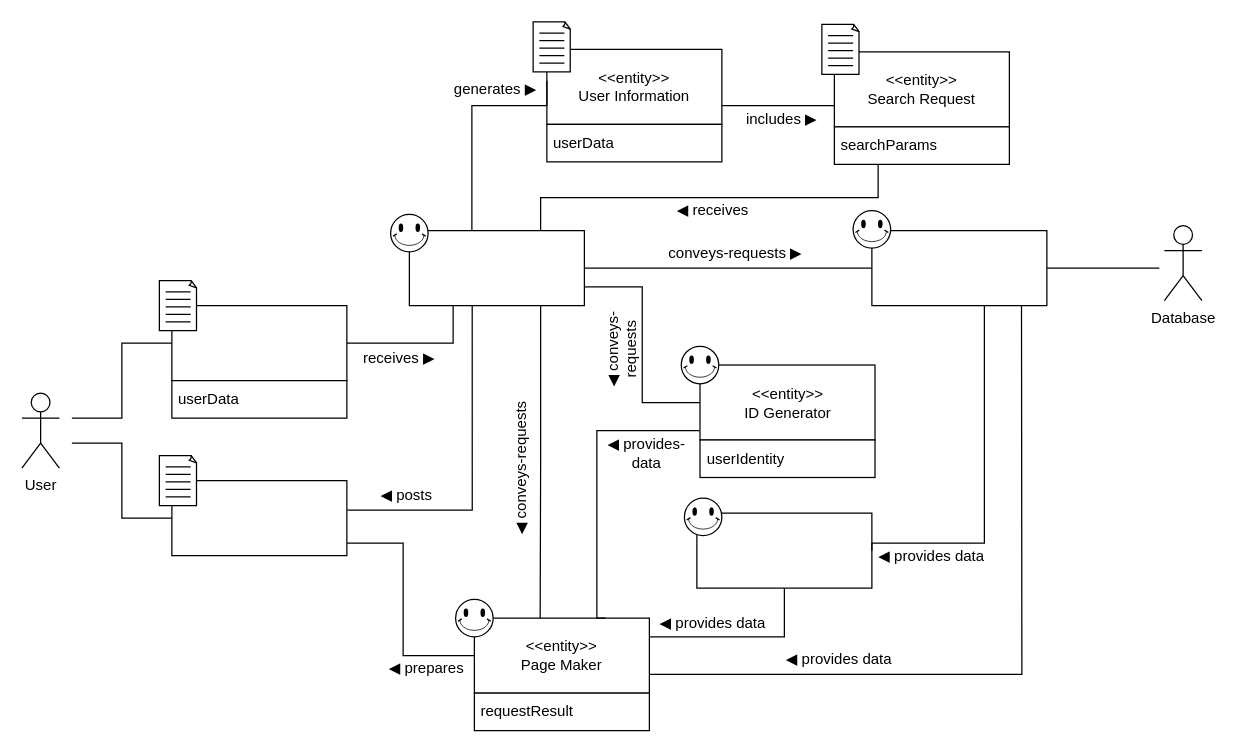
Image size: 1236x753. Some labels were removed from this diagram. Here are the shapes that lost their labels. From the top down, the box of each, then its label:
(408, 229, 584, 306): <<control>> Controller
(871, 229, 1047, 306): <<boundary>> Database Connection
(171, 304, 347, 381): <<boundary>> Add Request
(171, 479, 347, 556): <<boundary>> Interface Page
(696, 512, 872, 588): <<entity>> Newcomer Checker
